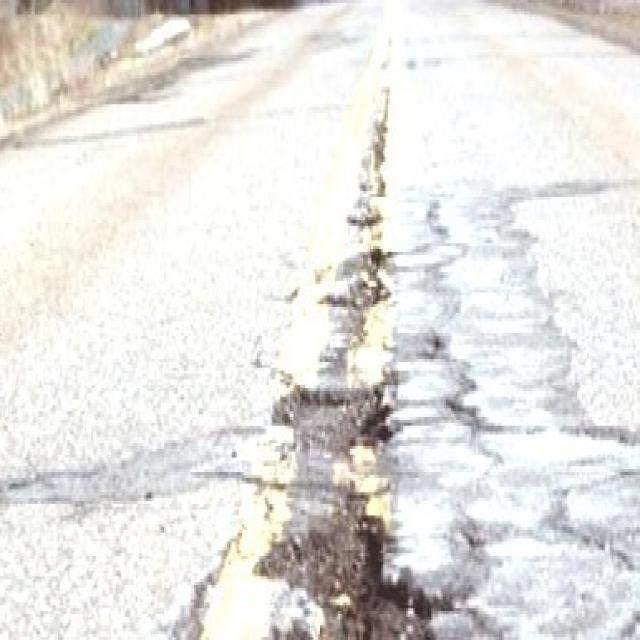road-pothole: (241, 486, 433, 637), (263, 379, 394, 457), (317, 243, 394, 314)
